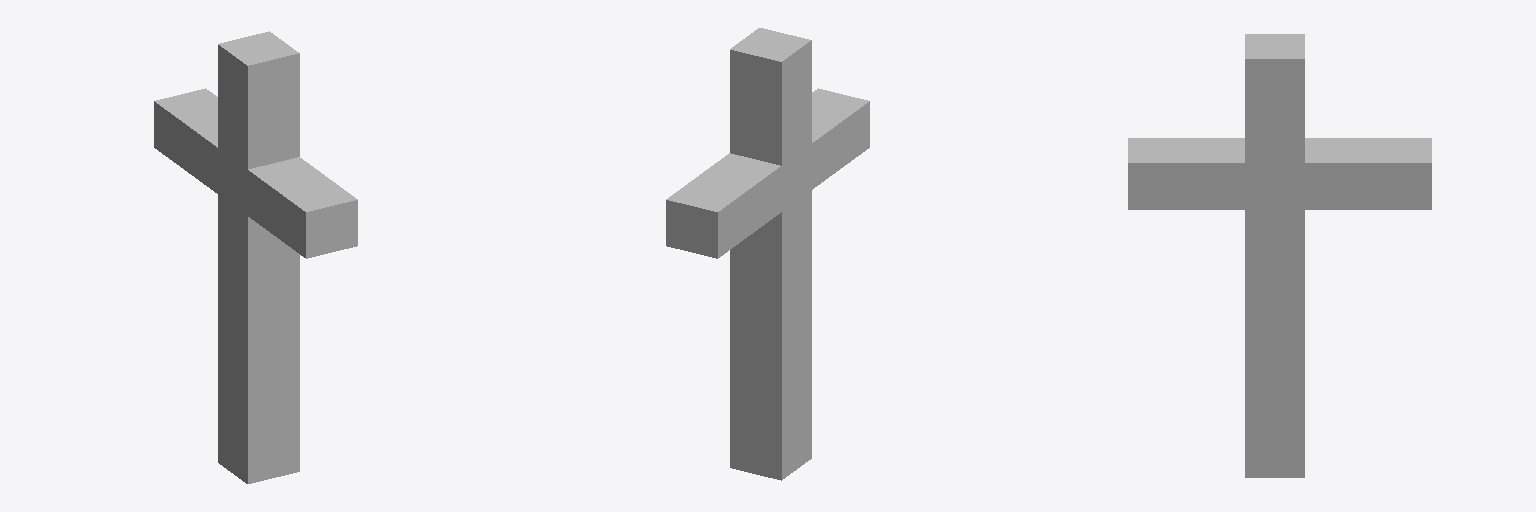
File: uploads_files_2515122_salep.obj
The picture shows the model from 3 angles: view 1: azimuth 30°, elevation 25°; view 2: azimuth 150°, elevation 25°; view 3: azimuth 270°, elevation 25°; orthographic projection.
Visible parts, largest first — view 1: Cube; view 2: Cube; view 3: Cube.
Boxes of the visible parts, x1,y1,x2,y2 form: Cube: [154, 31, 357, 483]; Cube: [666, 28, 869, 480]; Cube: [1128, 34, 1431, 477].
Size of the model in its own units: 1.03 by 7.94 by 5.23.